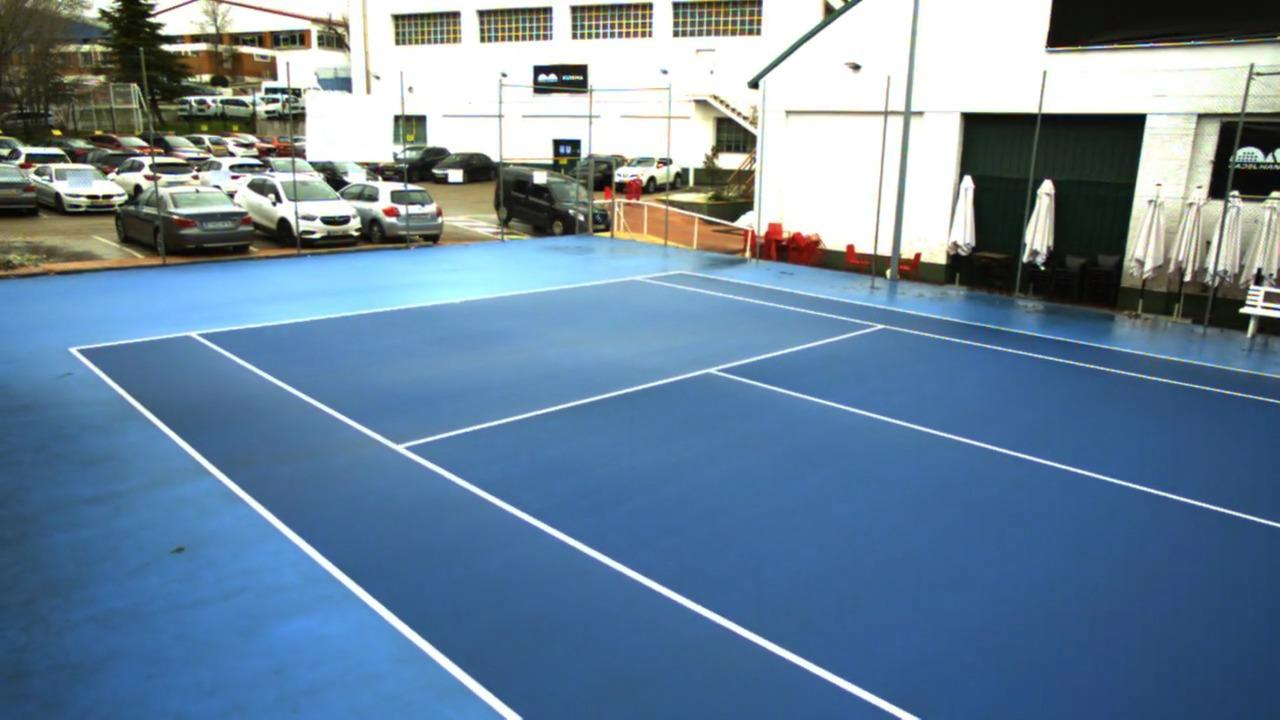cancha_tenis: (194, 276, 1280, 720)
point_f1: (186, 322, 214, 346)
point_f2: (620, 269, 653, 287)
point_fc1: (448, 291, 466, 307)
point_i1: (382, 429, 417, 460)
point_i2: (867, 314, 897, 337)
point_ic1: (695, 357, 734, 379)
